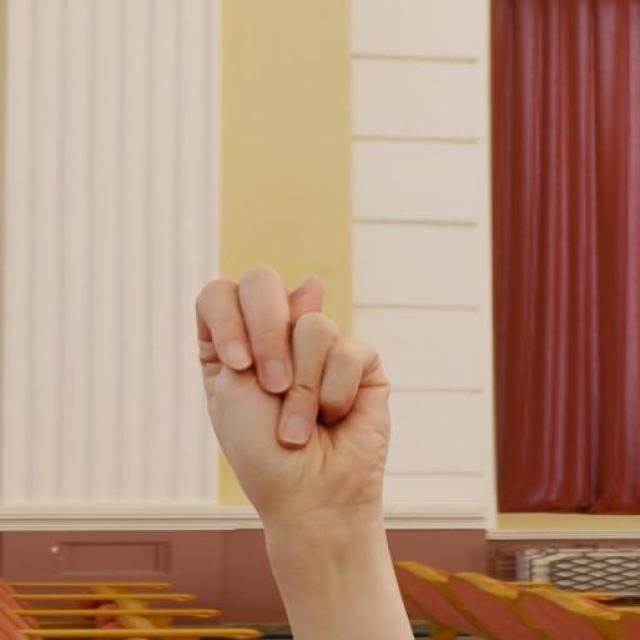N: (195, 260, 402, 550)
